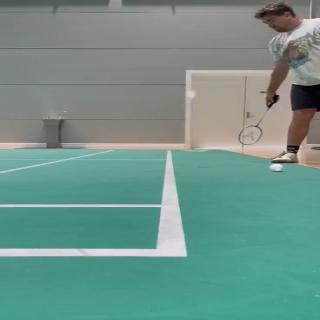Shuttle: (268, 164, 284, 172), (185, 90, 196, 100)
